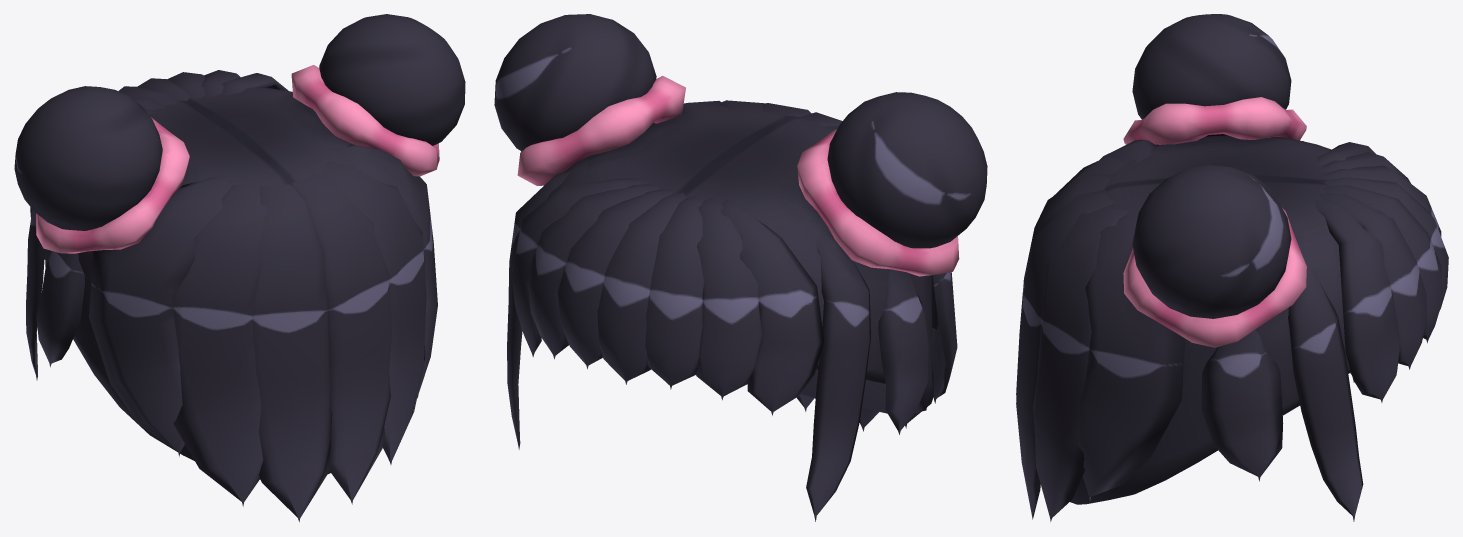
File: KawaiiSpaceBuns.obj
3 views of the same model, side by side, from view 1: azimuth 30°, elevation 25°; view 2: azimuth 150°, elevation 25°; view 3: azimuth 270°, elevation 25° (orthographic). The views are drawn at different scales.
Parts seen in each view (by area): view 1: KawaiiSpaceBuns; view 2: KawaiiSpaceBuns; view 3: KawaiiSpaceBuns.
Boxes of the visible parts, x1,y1,x2,y2 form: KawaiiSpaceBuns: [14, 14, 465, 522]; KawaiiSpaceBuns: [494, 14, 987, 521]; KawaiiSpaceBuns: [1016, 14, 1448, 522].
Bounding box in the file's own units: 1.72 × 1.51 × 1.42.
Materials: 1 (1 with a texture image).
